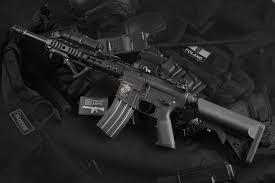gun: (12, 16, 275, 183)
